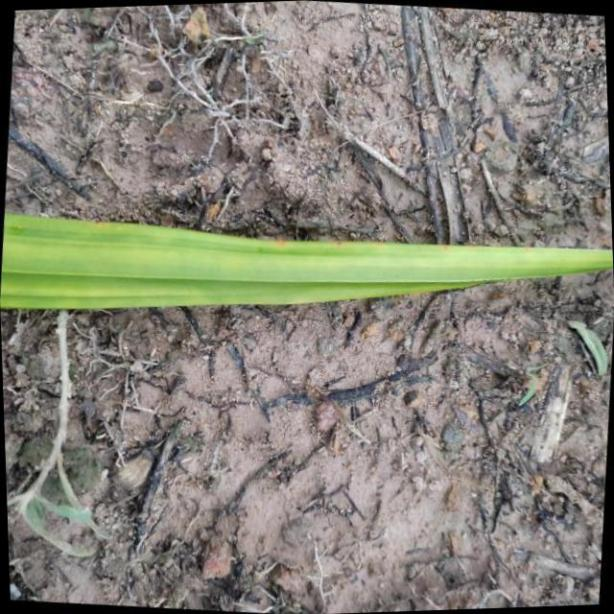nitrogen: (0, 205, 614, 315)
